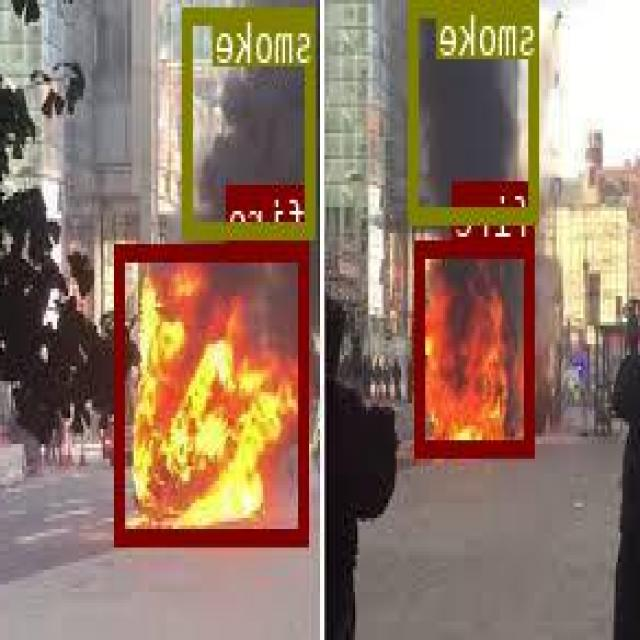fire: (118, 243, 310, 540), (418, 239, 536, 454)
smoke: (186, 4, 316, 235), (411, 0, 541, 218)
